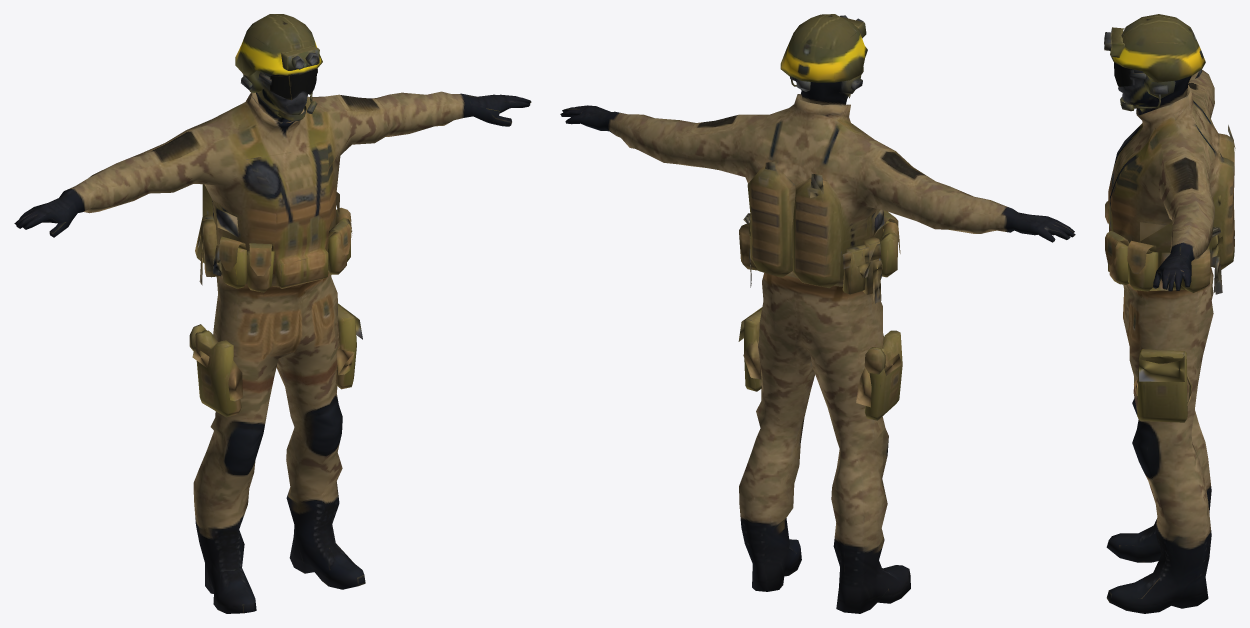
The model's file is ua-fpv-team.glb.
3 renders of one model, left to right at view 1: azimuth 30°, elevation 25°; view 2: azimuth 150°, elevation 25°; view 3: azimuth 270°, elevation 25°, orthographic.
Parts seen in each view (by area): view 1: Mesh_0; view 2: Mesh_0; view 3: Mesh_0.
Boxes of the visible parts, bbox=[...] form: Mesh_0: bbox=[14, 14, 531, 613]; Mesh_0: bbox=[560, 14, 1075, 613]; Mesh_0: bbox=[1104, 14, 1235, 613].
Bounding box in the file's own units: 0.897 × 0.9512 × 0.2017.
1 material, 1 textured.
